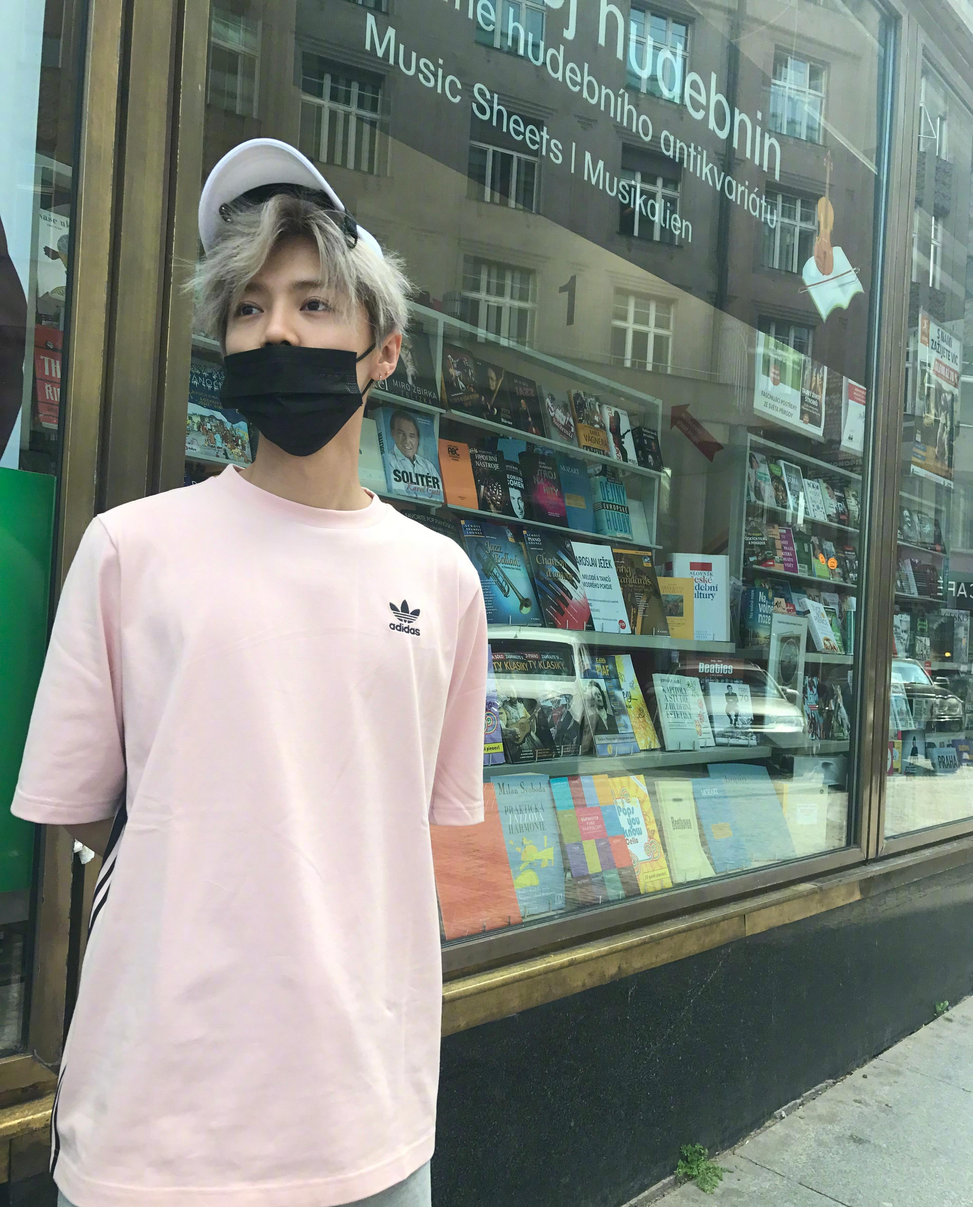WRONG: (197, 258, 390, 451)
